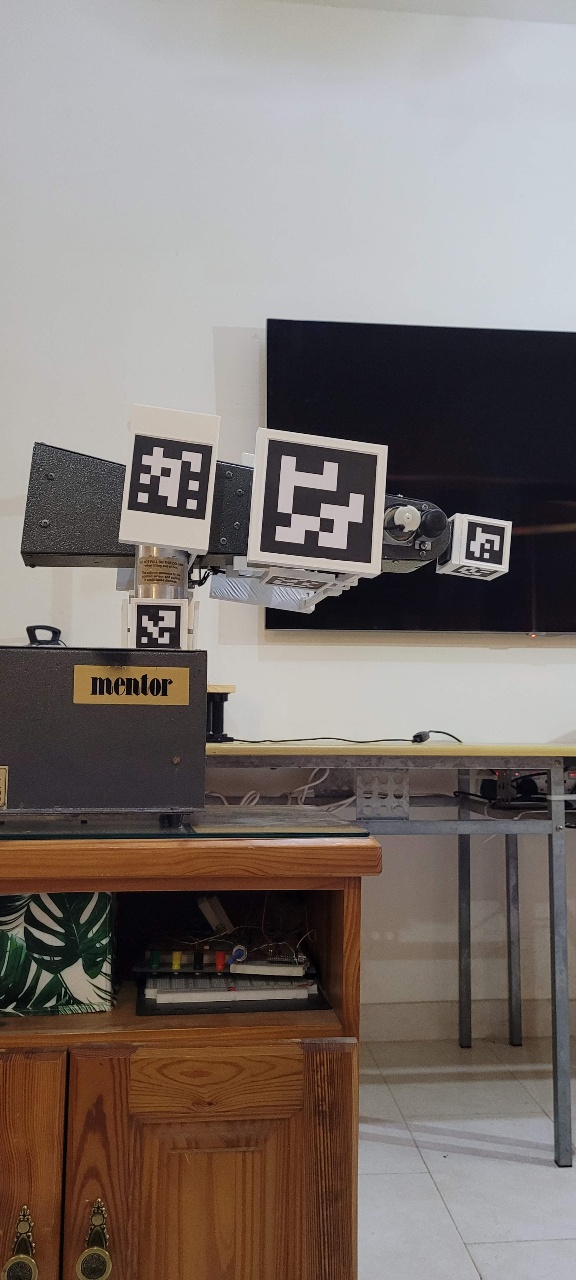Robot: (51, 273, 467, 1069)
